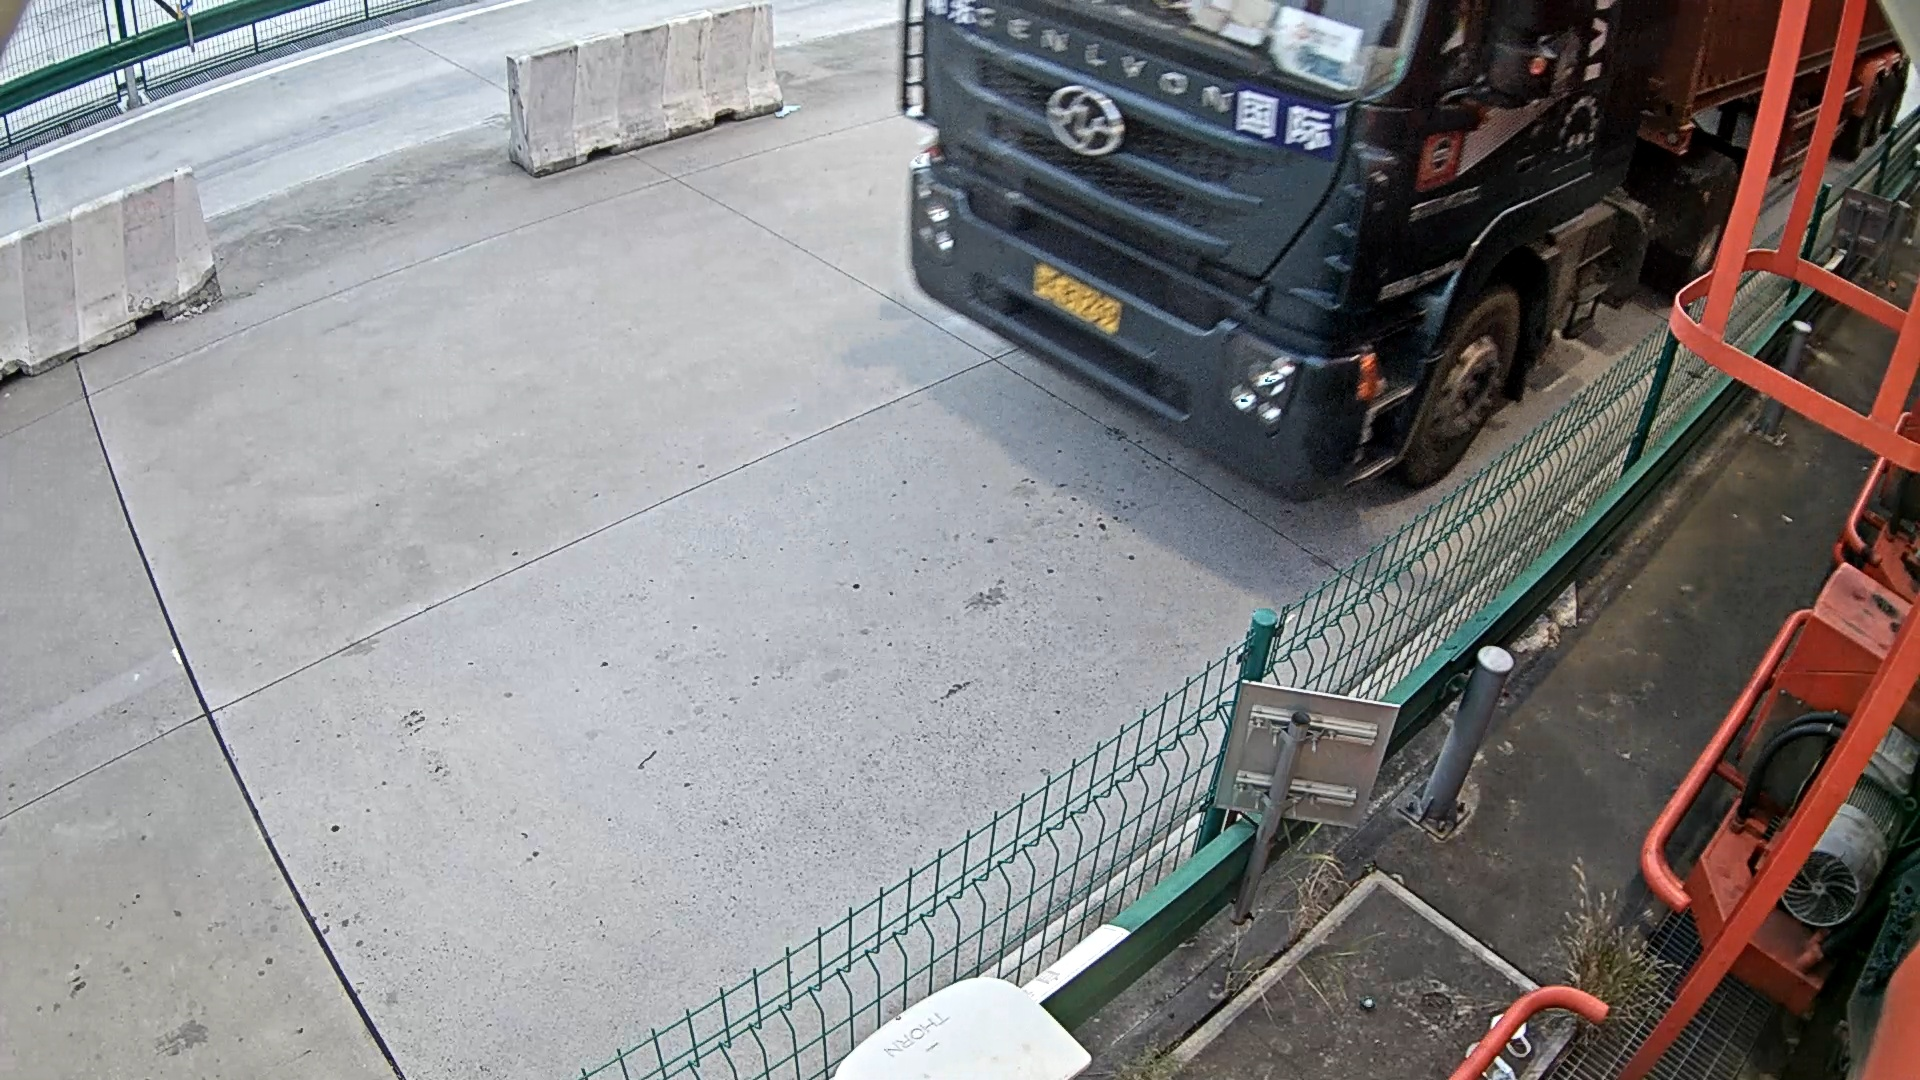head: (872, 19, 1522, 480)
plate: (1018, 251, 1138, 336)
